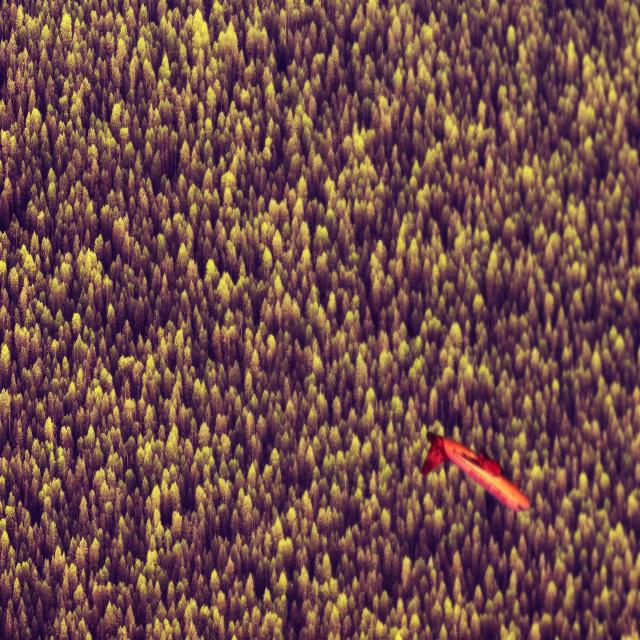airplane: (419, 430, 530, 512)
